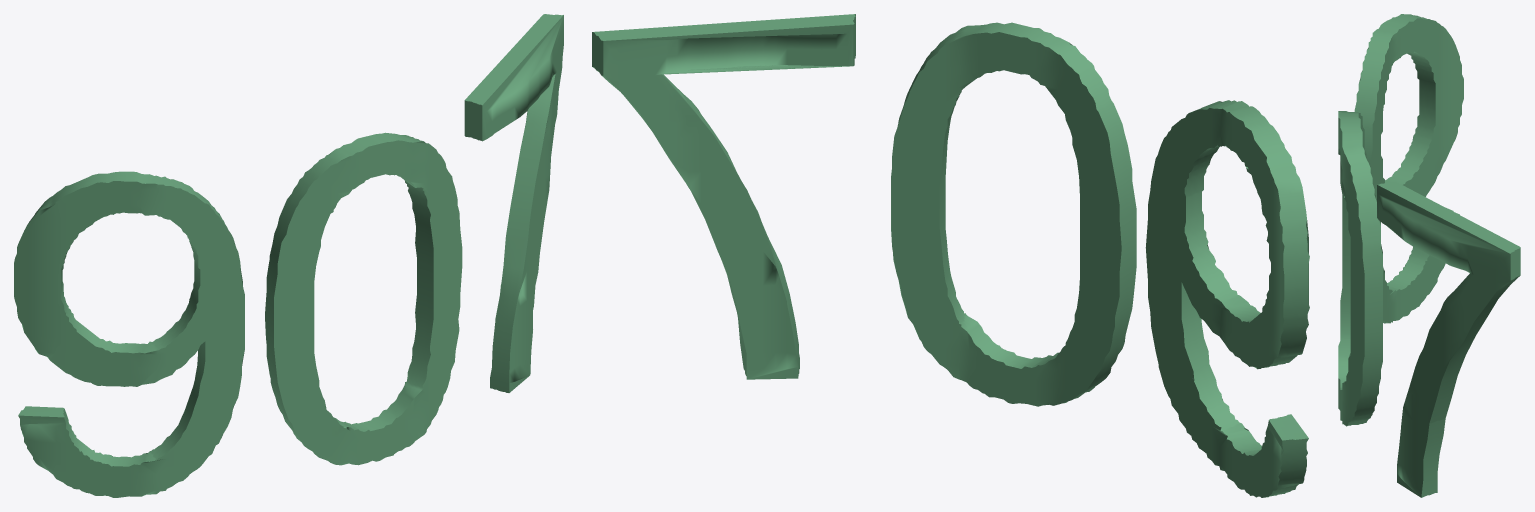
The model's file is port_7.obj.
3 views of the same model, side by side, from view 1: azimuth 30°, elevation 25°; view 2: azimuth 150°, elevation 25°; view 3: azimuth 270°, elevation 25° (orthographic). The views are drawn at different scales.
Visible parts, largest first — view 1: Text01; view 2: Text01; view 3: Text01.
Boxes of the visible parts, left/top/right/bottom form: Text01: left=14, top=14, right=563, bottom=497; Text01: left=592, top=14, right=1309, bottom=497; Text01: left=1338, top=14, right=1520, bottom=497.
Size of the model in its own units: 3.06 by 1.59 by 0.9.
